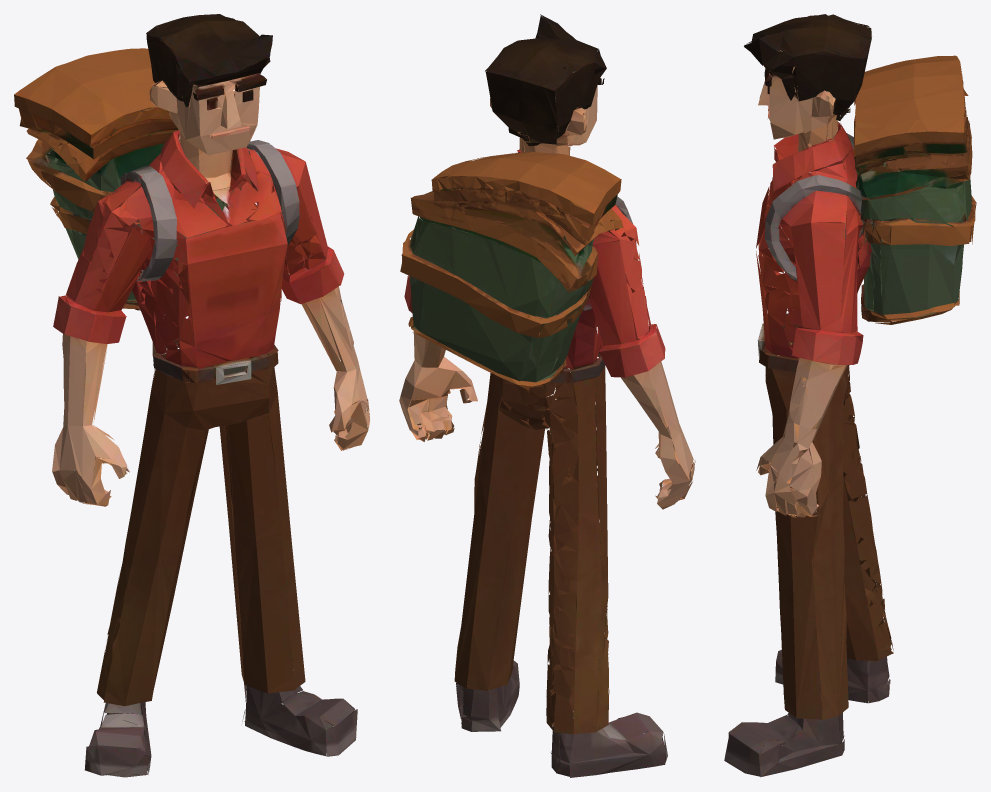
The model's file is habitant.glb.
3 views of the same model, side by side, from view 1: azimuth 30°, elevation 25°; view 2: azimuth 150°, elevation 25°; view 3: azimuth 270°, elevation 25° (orthographic). The views are drawn at different scales.
Visible parts, largest first — view 1: world; view 2: world; view 3: world.
Part boxes in pixels (x1,y1,x2,y2): world: (14,14,370,777); world: (399,14,695,777); world: (724,14,976,777).
Bounding box in the file's own units: 0.4503 × 1 × 0.3274.
1 material, 1 textured.
